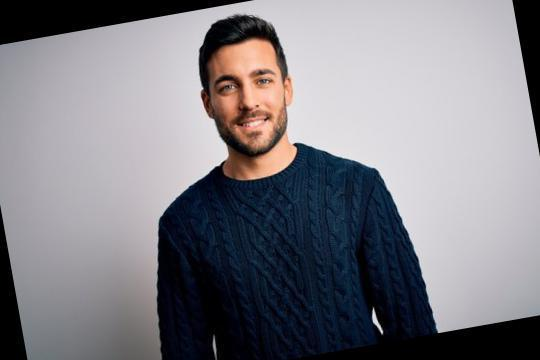Sober: (210, 43, 285, 146)
